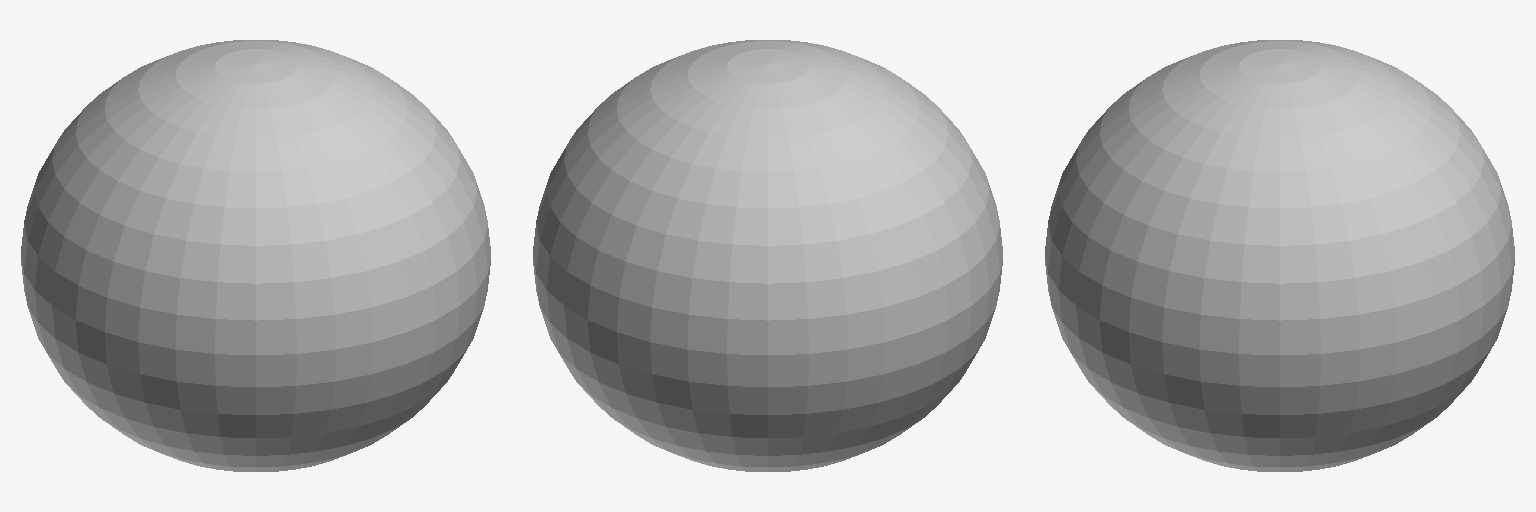
The model's file is minisaturn.obj.
The picture shows the model from 3 angles: view 1: azimuth 30°, elevation 25°; view 2: azimuth 150°, elevation 25°; view 3: azimuth 270°, elevation 25°; orthographic projection.
Visible parts, largest first — view 1: Sphere.012; view 2: Sphere.012; view 3: Sphere.012.
Boxes of the visible parts, x1=… form: Sphere.012: x1=21, y1=40, x2=490, y2=471; Sphere.012: x1=533, y1=40, x2=1002, y2=471; Sphere.012: x1=1045, y1=40, x2=1514, y2=471.
Size of the model in its own units: 36160 by 32618 by 36160.